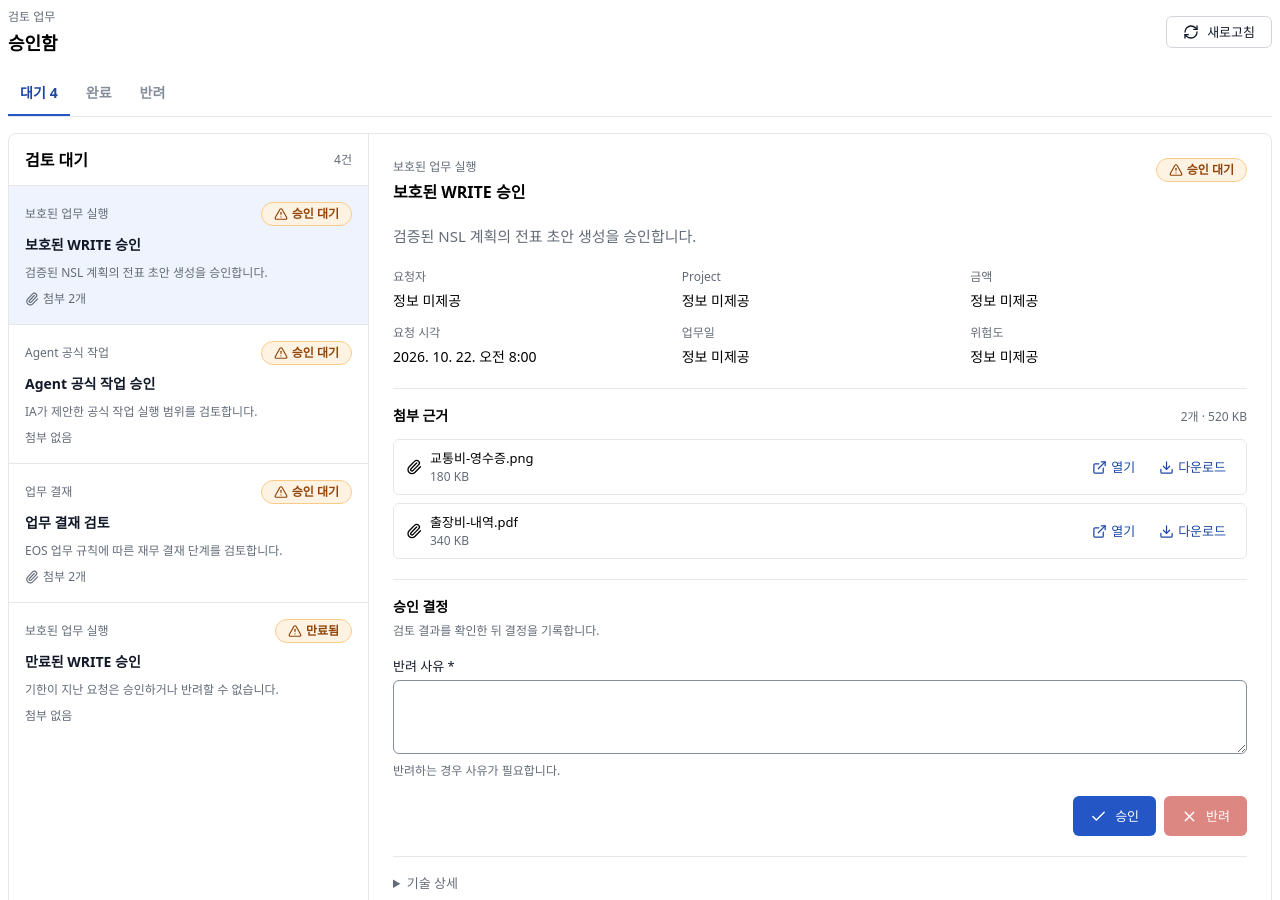
Test: Approval Inbox React surface › confirms approval, shows the result, and advances to the next request
The width and height of the screenshot is (1280, 900).
Expected: the heading "보호된 WRITE 승인" is shown, [393,180,525,204]
Click the button "승인". click: (1115, 816)
box: [1073,796,1156,836]
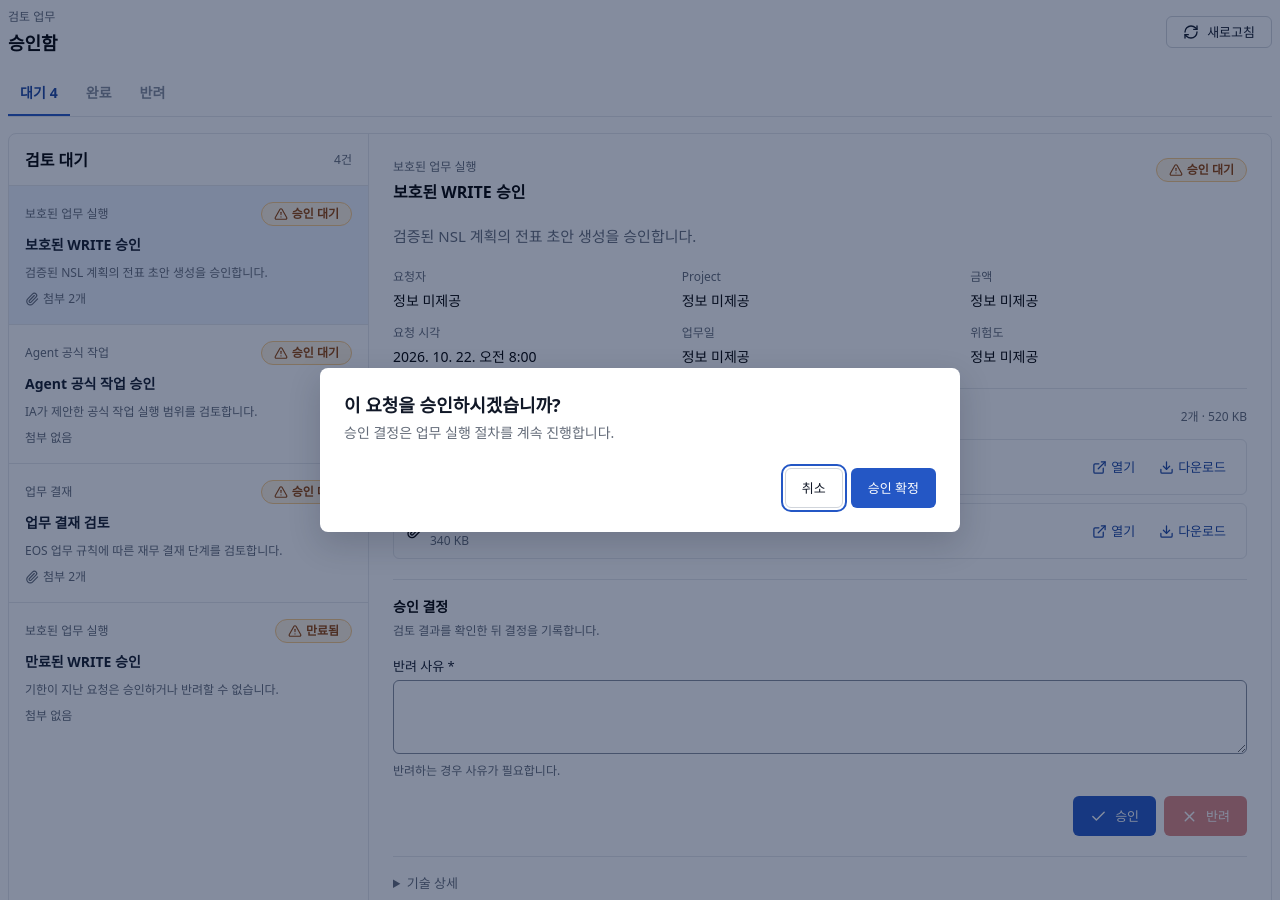
Click the button "승인 확정". click: (893, 488)
box: [851,468,936,508]
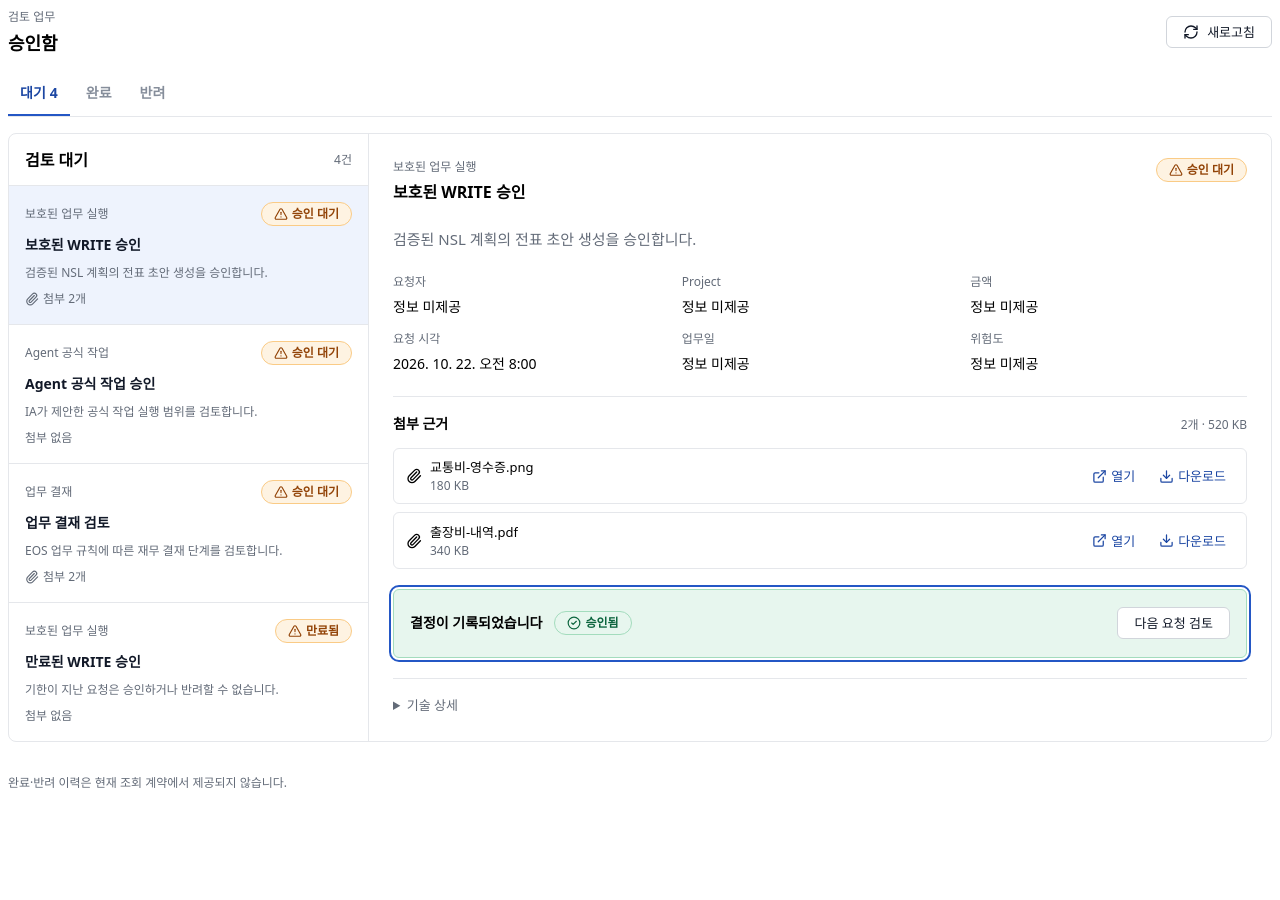
Expected: the message "결정이 기록되었습니다" shows "승인됨", [586,614,619,631]
Expected: the text "승인됨" is shown, [586,614,619,632]
Click the button "다음 요청 검토". click: (1174, 623)
box: [1118,607,1230,639]
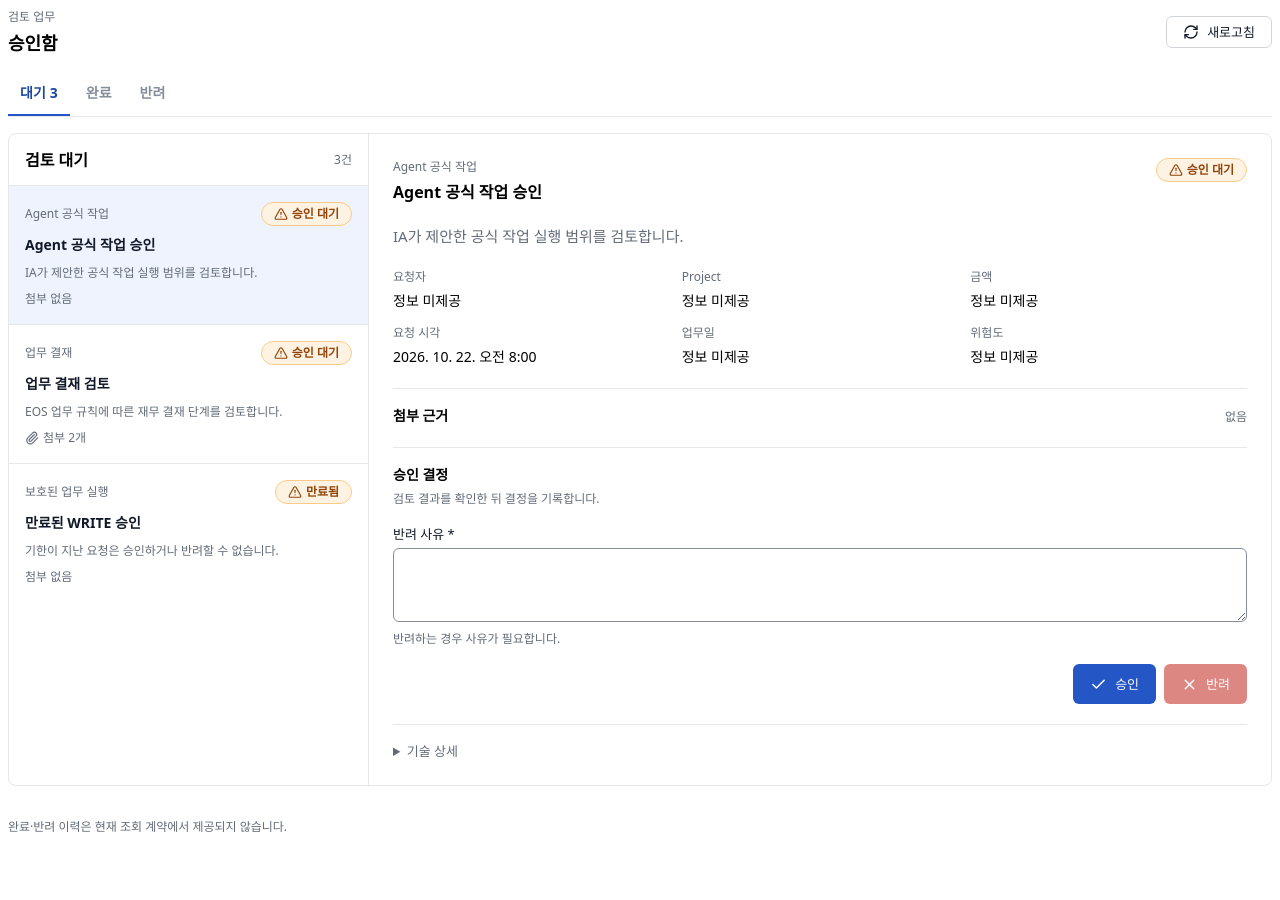
Expected: the heading "Agent 공식 작업 승인" is shown, [393,180,542,204]
